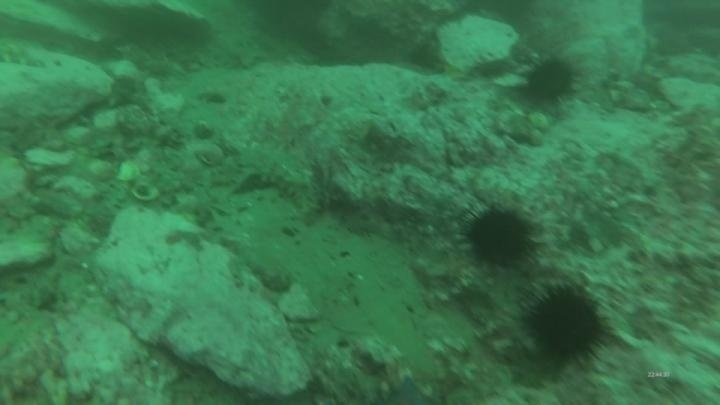echinus: (519, 280, 610, 371), (459, 200, 540, 272), (519, 53, 579, 108)
holothurian: (231, 159, 324, 220)
starfish: (381, 373, 437, 404)
